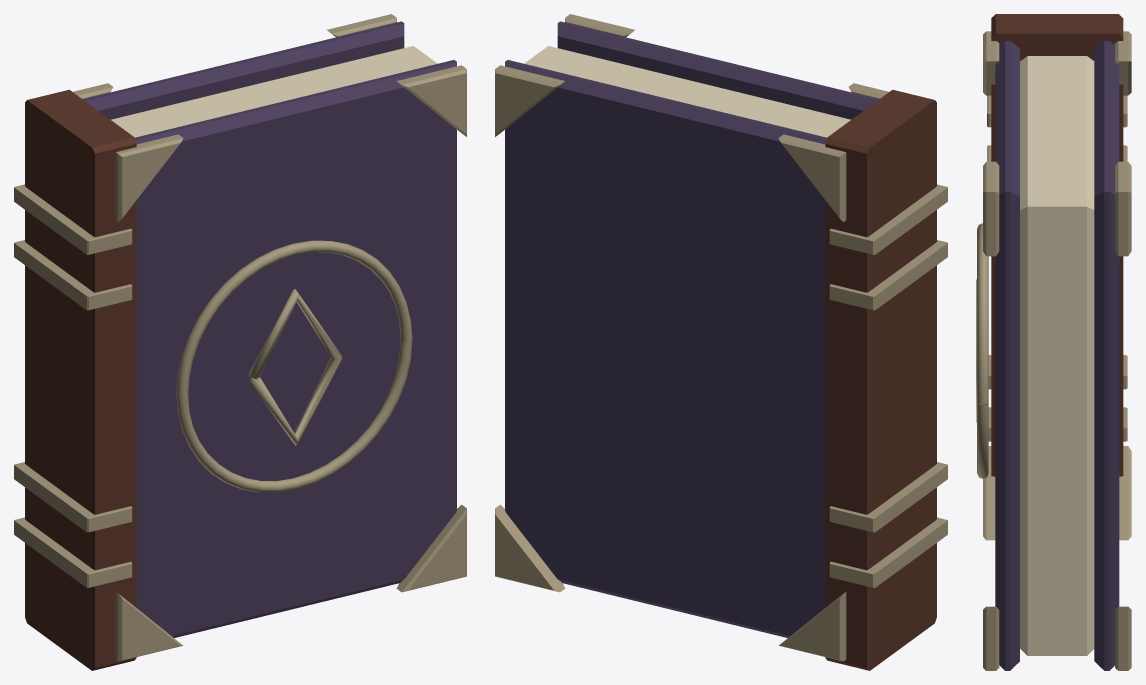
The model's file is spell-tome-standard.glb.
The picture shows the model from 3 angles, left to right: view 1: azimuth 30°, elevation 25°; view 2: azimuth 150°, elevation 25°; view 3: azimuth 270°, elevation 25°; orthographic projection. The views are drawn at different scales.
Visible parts, largest first — view 1: spell-tome__standard; view 2: spell-tome__standard; view 3: spell-tome__standard.
Part boxes in pixels (left/top/right/bottom): spell-tome__standard: left=14, top=14, right=466, bottom=670; spell-tome__standard: left=495, top=14, right=947, bottom=670; spell-tome__standard: left=976, top=14, right=1131, bottom=670.
Bounding box in the file's own units: 0.25 × 0.33 × 0.094.
